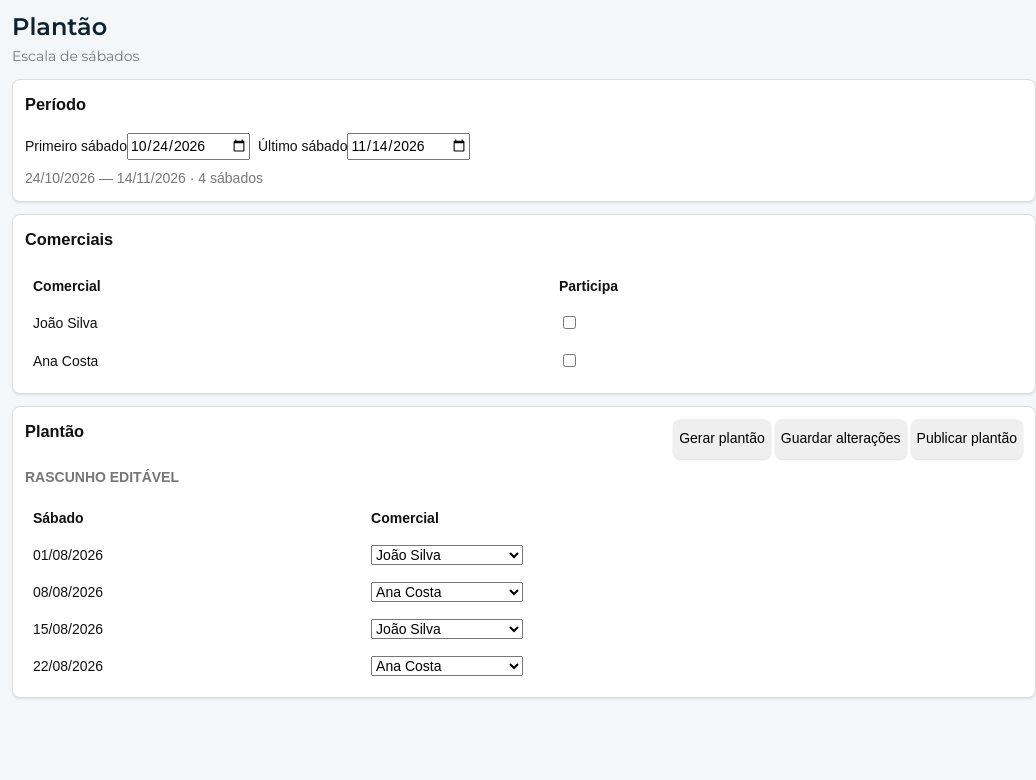
Scenario: Plantoes › publica o rascunho e remove as ações de edição
The width and height of the screenshot is (1036, 780).
Step 1. Click the button "Publicar plantão" → (967, 439), box [911,419,1023,459]
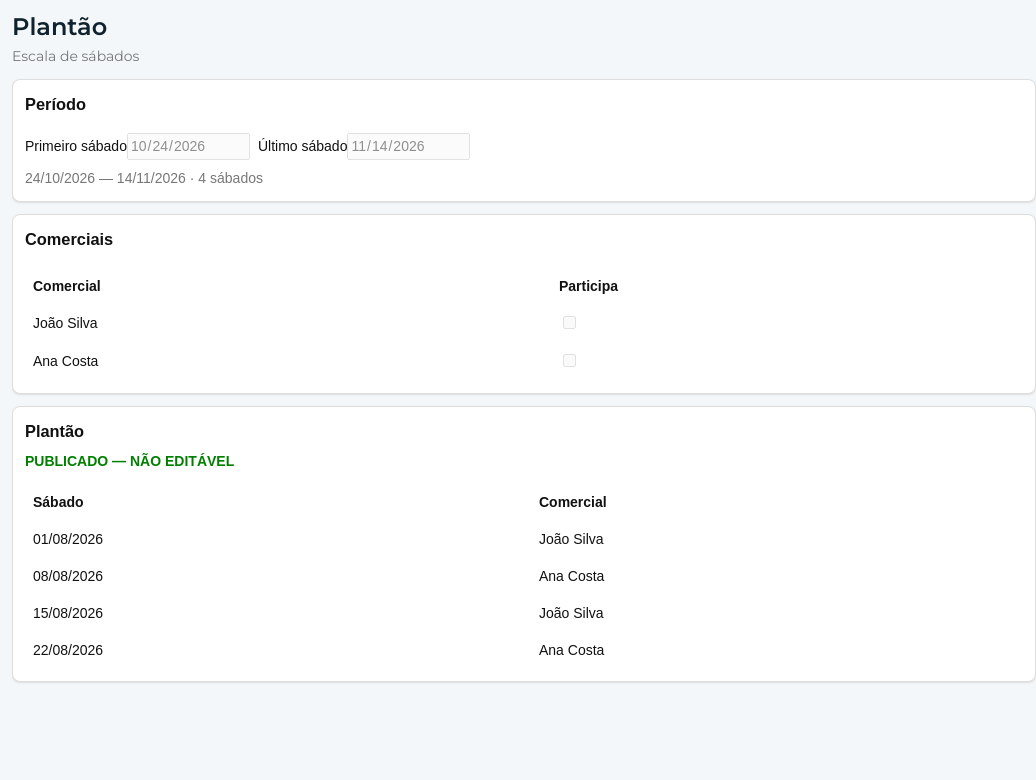
Expected: the text "PUBLICADO — NÃO EDITÁVEL" is shown, [25,453,234,469]
Expected: the button "Publicar plantão" is gone
Expected: the button "Guardar alterações" is gone
